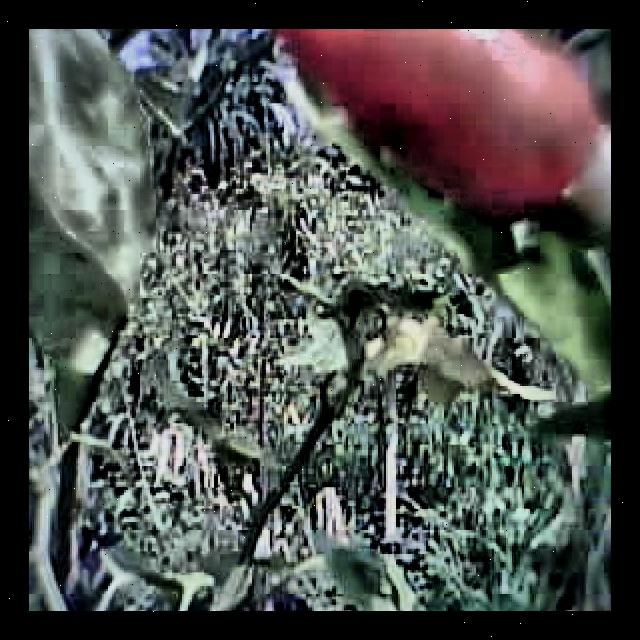Cabai: (286, 29, 592, 208)
